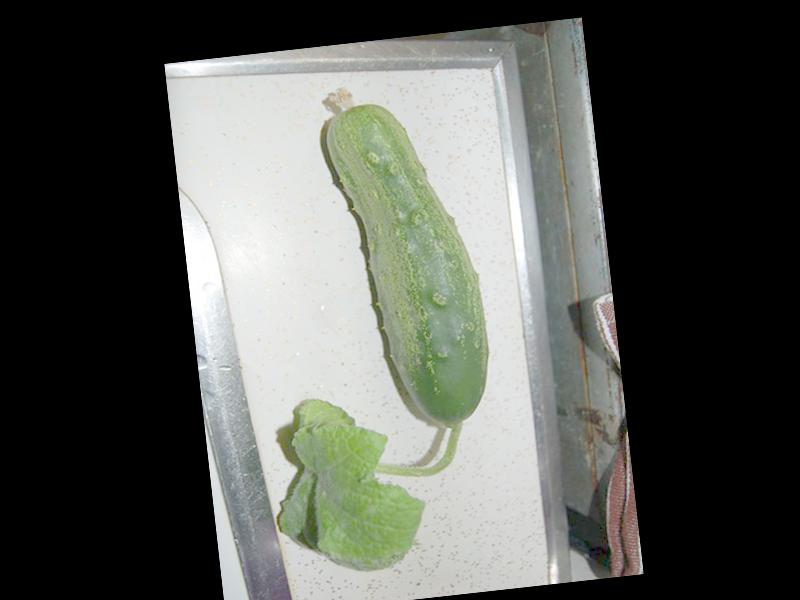Cucumber: (318, 74, 498, 439)
